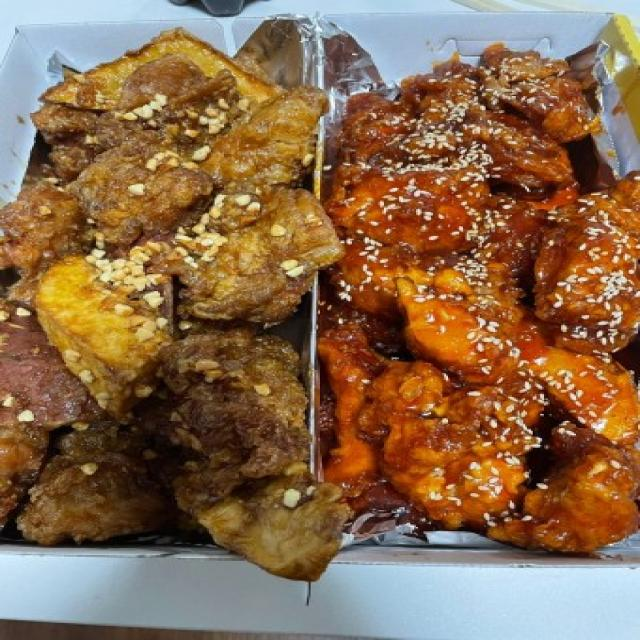Frango: (19, 39, 330, 554), (339, 55, 640, 538)
